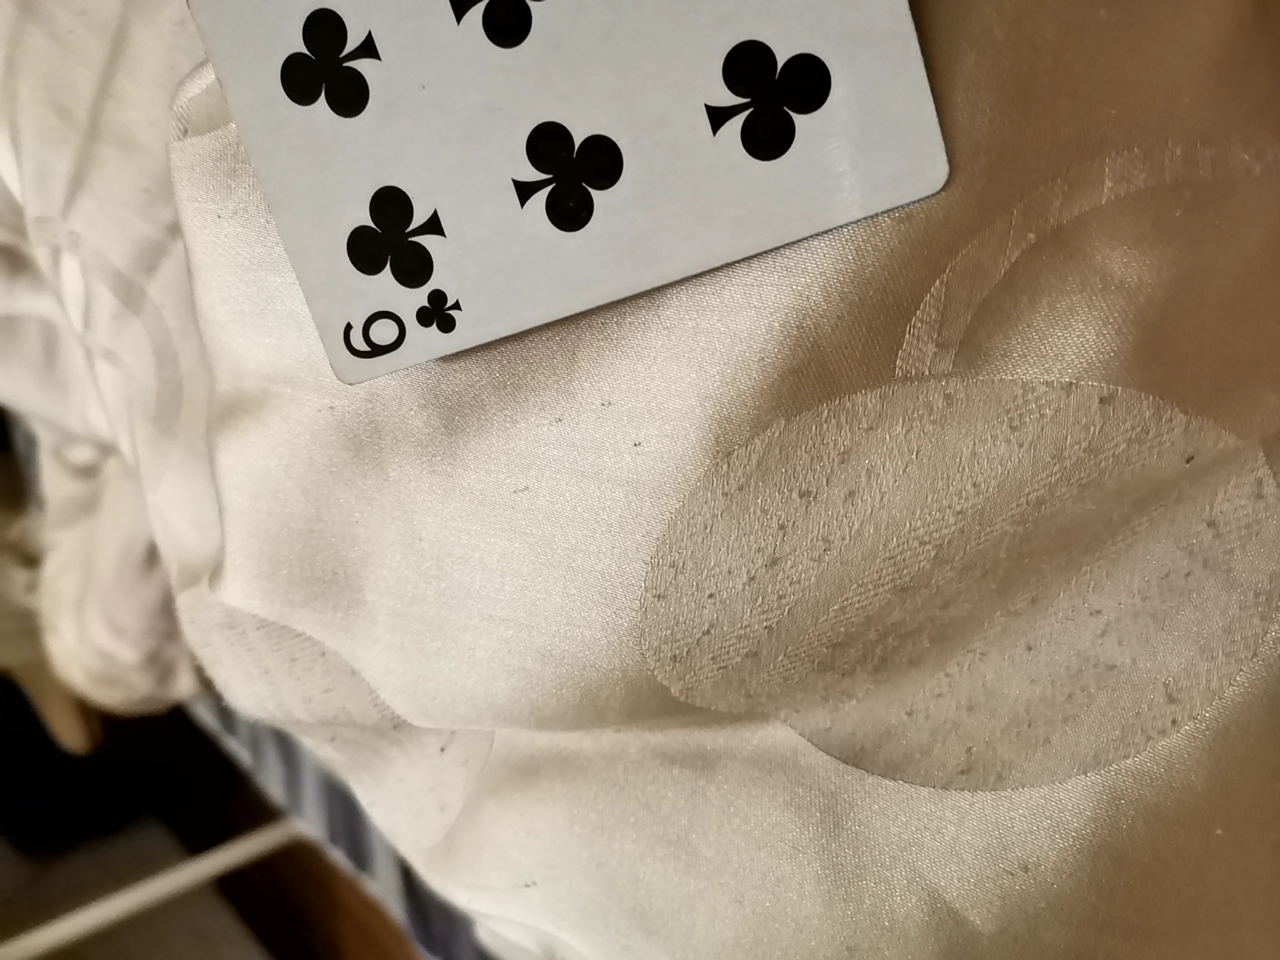mh 6: (119, 3, 961, 383)
